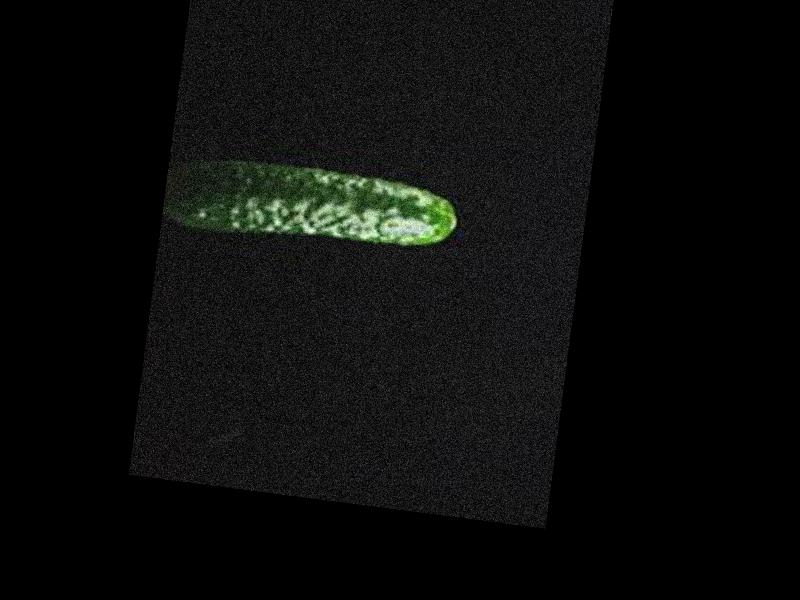Cucumber: (160, 149, 463, 262)
